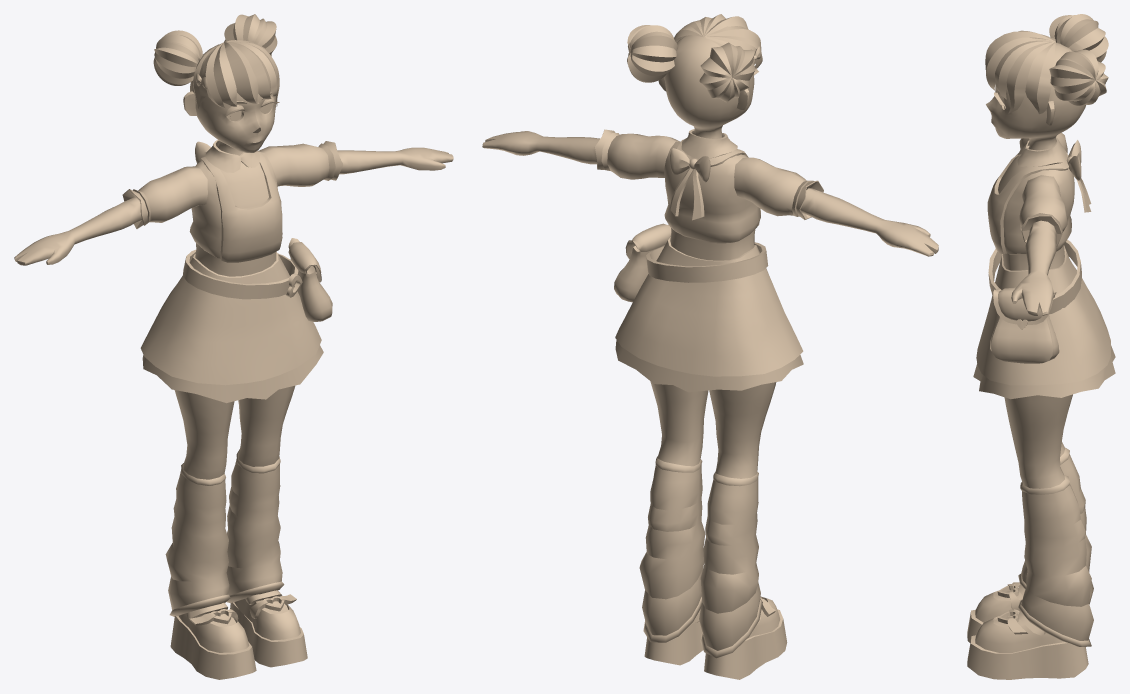
The model's file is Kami_Cottage_Core_con_UVS (1).fbx.
The picture shows the model from 3 angles, left to right: view 1: azimuth 30°, elevation 25°; view 2: azimuth 150°, elevation 25°; view 3: azimuth 270°, elevation 25°; orthographic projection. The views are drawn at different scales.
Visible parts, largest first — view 1: Kami1; view 2: Kami1; view 3: Kami1.
Part boxes in pixels (x1,y1,x2,y2): Kami1: (14,14,453,679); Kami1: (482,14,938,679); Kami1: (967,14,1115,679).
Size of the model in its own units: 6.66 by 8.92 by 1.93.
